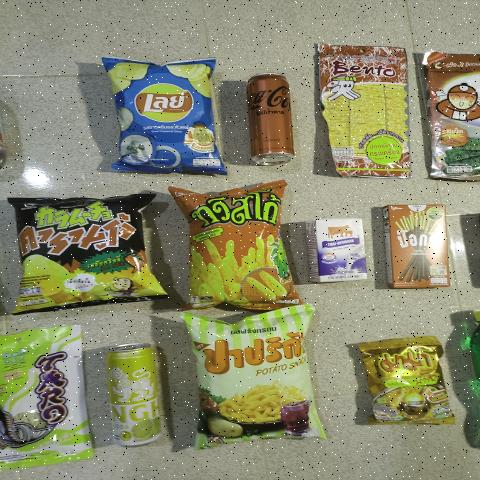bento_red: (323, 45, 412, 171)
coke_red: (235, 78, 307, 163)
karamujo: (23, 200, 156, 299)
lay_blue: (117, 65, 212, 168)
mama: (363, 340, 445, 434)
paprika: (184, 315, 312, 441)
pokki: (379, 207, 454, 291)
singha_yellow: (107, 339, 174, 444)
taro_yellow: (0, 328, 73, 458)
thai_denmark: (311, 219, 365, 282)
twisco: (179, 188, 290, 296)
